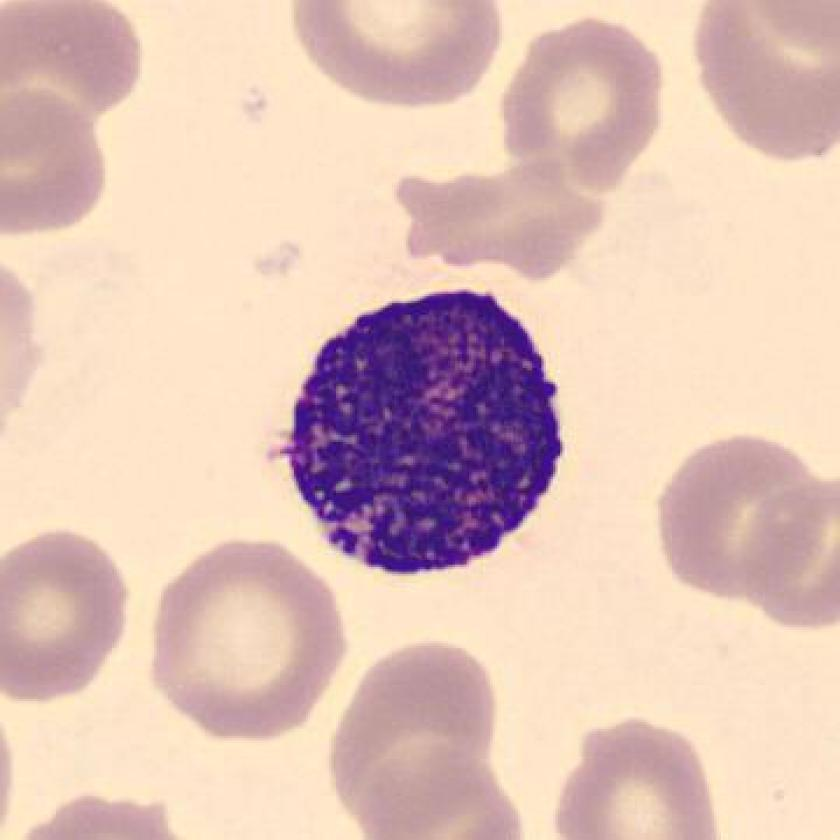basophil: (267, 279, 577, 598)
